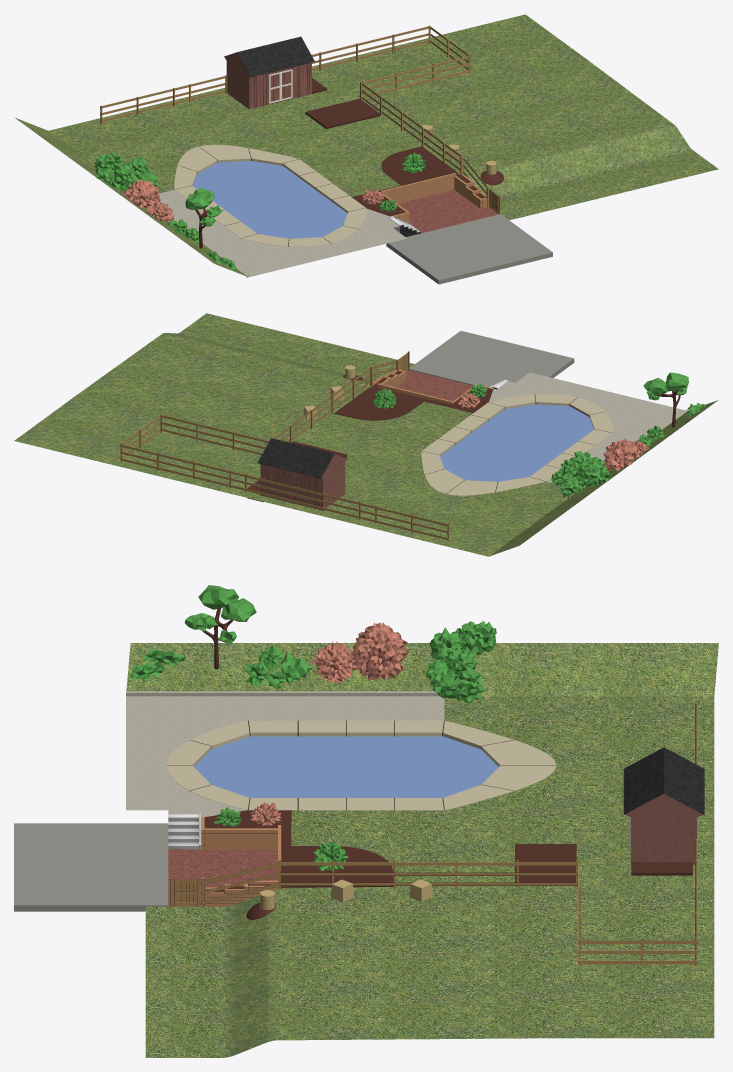
File: bunker15.gltf
The picture shows the model from 3 angles, top to bottom: view 1: azimuth 30°, elevation 25°; view 2: azimuth 150°, elevation 25°; view 3: azimuth 270°, elevation 25°; orthographic projection. The views are drawn at different scales.
Visible parts, largest first — view 1: yard, pool-water, porch, pool-concrete, fence-boards.001, shed, bushes-1, pavers, wall, shed-roof, planter-wall-rear, planting-bed-garden (+4 smaller); view 2: yard, pool-water, pool-concrete, porch, fence-boards.001, bushes-1, shed, shed-roof, planter-wall-rear, pavers, bushes-2, fence-posts (+3 smaller); view 3: yard, pool-water, porch, pool-concrete, bushes-1, fence-boards, shed, shed-roof, bushes-2, pavers, wall, planter-wall-rear (+6 smaller).
Boxes of the visible parts, x1,y1,x2,y2 form: yard: (14, 14, 718, 277); pool-water: (193, 161, 347, 238); porch: (386, 214, 552, 284); pool-concrete: (174, 144, 366, 246); fence-boards.001: (100, 26, 470, 121); shed: (224, 52, 311, 109); bushes-1: (94, 152, 237, 271); pavers: (397, 190, 498, 233); wall: (380, 173, 487, 222); shed-roof: (224, 36, 314, 77); planter-wall-rear: (381, 146, 456, 185); planting-bed-garden: (305, 98, 380, 128); yard: (14, 313, 718, 556); pool-water: (440, 404, 593, 481); pool-concrete: (421, 394, 612, 495); porch: (409, 331, 574, 386); fence-boards.001: (120, 415, 448, 540); bushes-1: (551, 372, 705, 497); shed: (260, 454, 347, 510); shed-roof: (257, 438, 348, 478); planter-wall-rear: (334, 387, 424, 420); pavers: (396, 370, 472, 401); bushes-2: (603, 438, 649, 471); fence-posts: (120, 351, 449, 541); yard: (126, 643, 718, 1057); pool-water: (194, 736, 498, 797); porch: (14, 823, 168, 911); pool-concrete: (167, 720, 556, 810); bushes-1: (130, 585, 496, 703); fence-boards: (201, 862, 577, 904); shed: (624, 793, 703, 864); shed-roof: (623, 747, 704, 814); bushes-2: (311, 622, 407, 684); pavers: (168, 849, 277, 906); wall: (201, 817, 281, 906); planter-wall-rear: (291, 846, 392, 887).
Size of the model in its own units: 113 by 30.22 by 91.42.
Materials: 19 (6 with a texture image).
